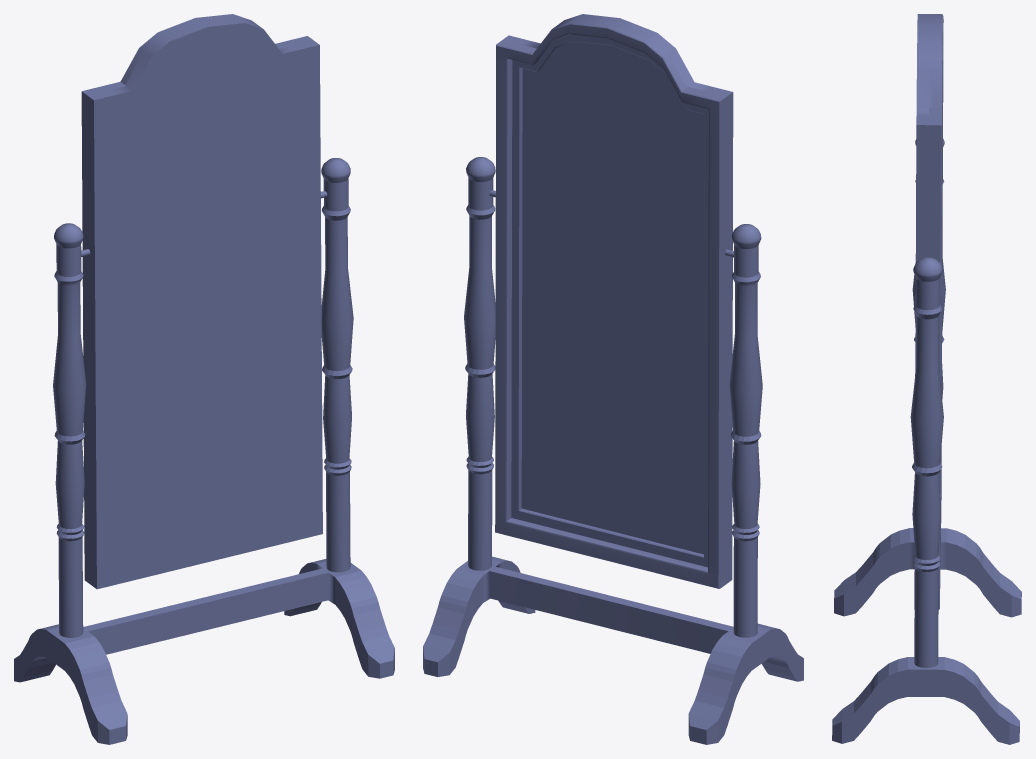
Rendered from mirror.fbx.
3 renders of one model, left to right at view 1: azimuth 30°, elevation 25°; view 2: azimuth 150°, elevation 25°; view 3: azimuth 270°, elevation 25°, orthographic.
Visible parts, largest first — view 1: Mirror2; view 2: Mirror2; view 3: Mirror2.
Boxes of the visible parts, <box> form: Mirror2: <box>14,14,394,744</box>; Mirror2: <box>423,14,803,744</box>; Mirror2: <box>832,14,1021,744</box>.
Size of the model in its own units: 56.16 by 118 by 31.39.
